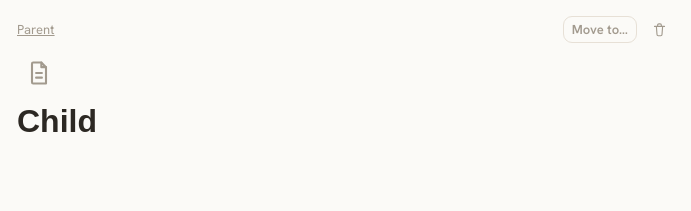
Test: PageEditor › nudges instead of reloading when the edit would land under the caret
Type "!" into the 1st field showing "Child" at (345, 122), box [17,95,673,148]
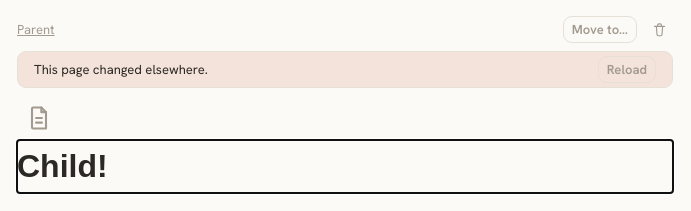
expect the text "This page changed elsewhere. Reload" is shown: met, box [17,51,673,88]
expect the button "Reload" is shown: met, box [598,56,656,83]
